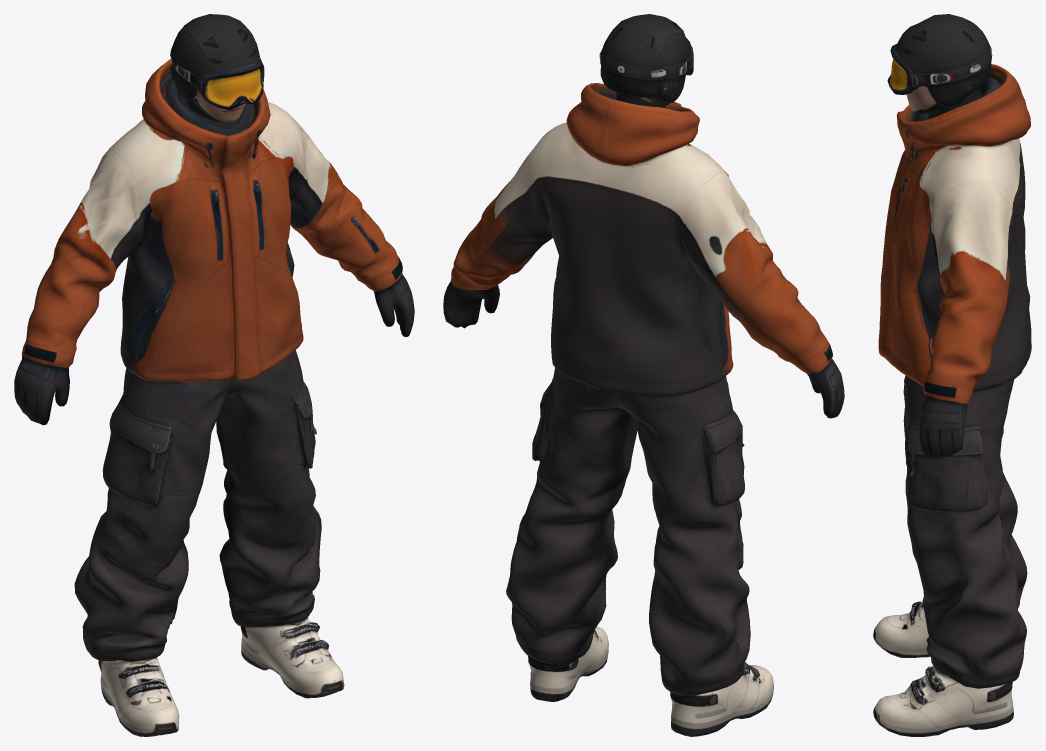
Rendered from tripo_convert_f4a6cf92-b8cd-4ccd-9033-734e3fc8c165.fbx.
3 views of the same model, side by side, from view 1: azimuth 30°, elevation 25°; view 2: azimuth 150°, elevation 25°; view 3: azimuth 270°, elevation 25° (orthographic).
Parts seen in each view (by area): view 1: tripo_node_f4a6cf92; view 2: tripo_node_f4a6cf92; view 3: tripo_node_f4a6cf92.
Boxes of the visible parts, x1,y1,x2,y2 form: tripo_node_f4a6cf92: [14, 14, 414, 736]; tripo_node_f4a6cf92: [443, 14, 844, 736]; tripo_node_f4a6cf92: [873, 14, 1031, 736].
Size of the model in its own units: 0.5892 by 0.9782 by 0.2095.
Materials: 1 (1 with a texture image).
